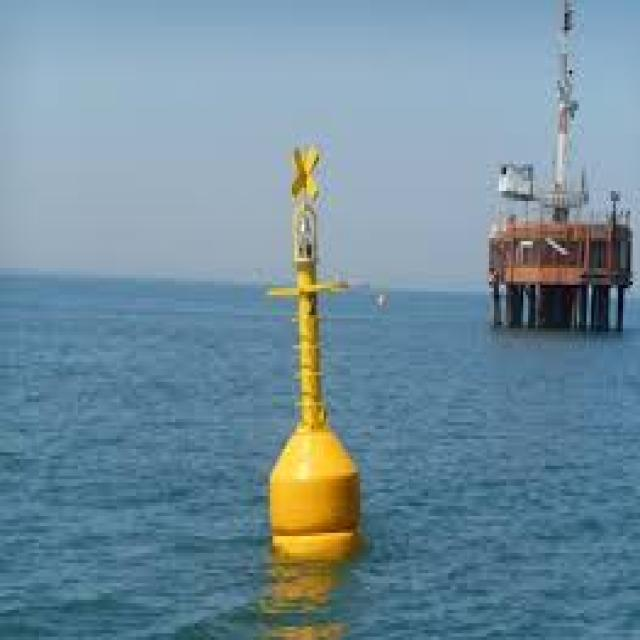marque: (248, 125, 382, 576)
